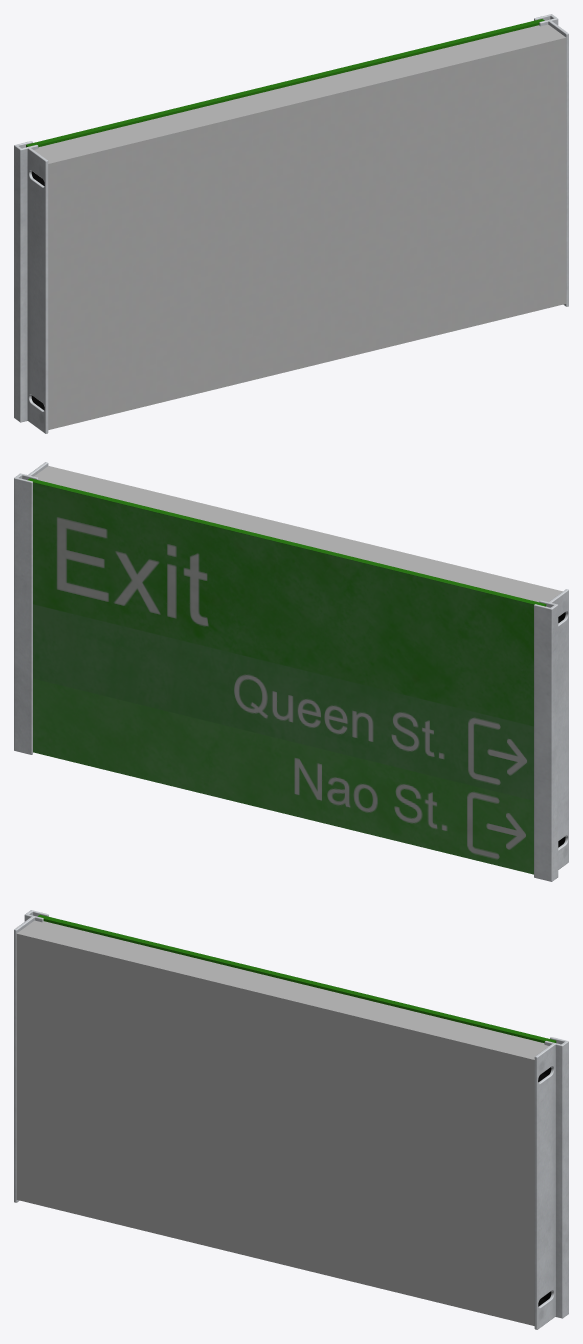
The model's file is SM_Sign_Exit_01a.fbx.
3 views of the same model, one above another, from view 1: azimuth 30°, elevation 25°; view 2: azimuth 150°, elevation 25°; view 3: azimuth 330°, elevation 25° (orthographic).
Parts seen in each view (by area): view 1: SM_Sign_Exit_01a; view 2: SM_Sign_Exit_01a; view 3: SM_Sign_Exit_01a.
Part boxes in pixels (box(x1,y1,x2,y2)): SM_Sign_Exit_01a: box(14, 14, 568, 433); SM_Sign_Exit_01a: box(14, 462, 568, 881); SM_Sign_Exit_01a: box(14, 910, 568, 1329).
Bounding box in the file's own units: 112 × 8.88 × 54.32.
1 material, 1 textured.
